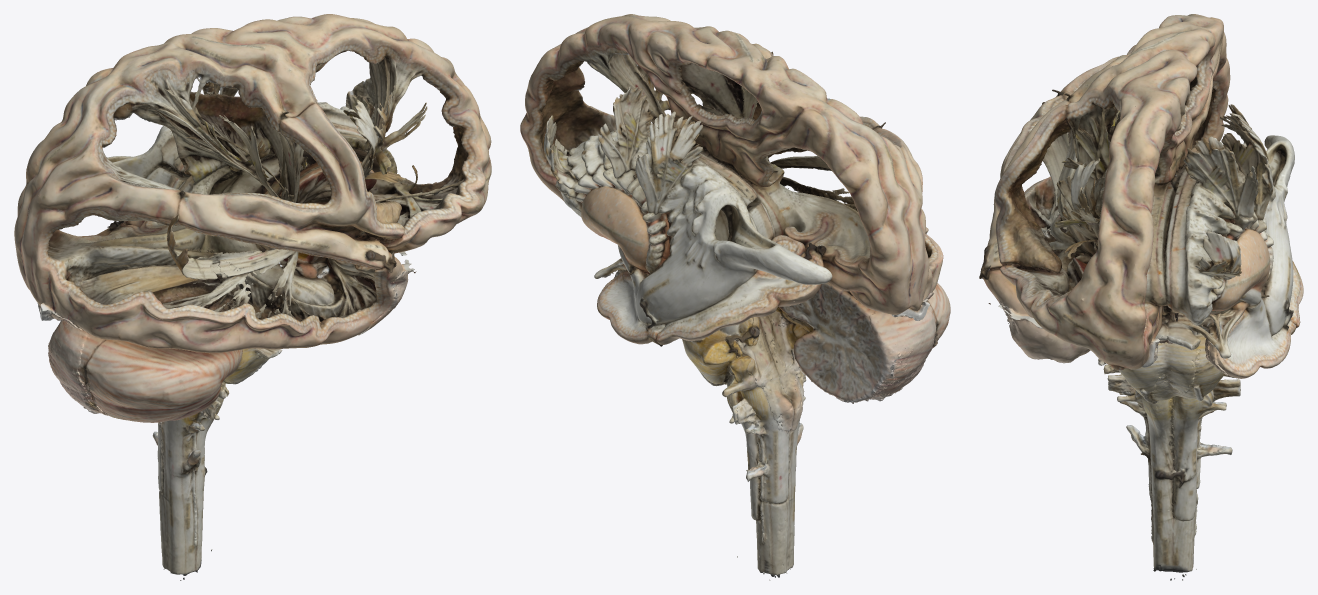
The model's file is science-museum-human-brain.glb.
The picture shows the model from 3 angles, left to right: view 1: azimuth 30°, elevation 25°; view 2: azimuth 150°, elevation 25°; view 3: azimuth 270°, elevation 25°; orthographic projection. The views are drawn at different scales.
Parts seen in each view (by area): view 1: Object_4, Object_5, Object_7, Object_2, Object_8, Object_6, Object_3, Object_9; view 2: Object_5, Object_2, Object_7, Object_4, Object_3, Object_6, Object_8, Object_9; view 3: Object_5, Object_7, Object_8, Object_6, Object_2, Object_3, Object_4, Object_9.
Part boxes in pixels (box(x1,y1,x2,y2)): Object_4: box(14, 57, 489, 345); Object_5: box(14, 59, 491, 264); Object_7: box(45, 14, 453, 569); Object_2: box(48, 322, 282, 580); Object_8: box(14, 72, 491, 299); Object_6: box(26, 57, 479, 224); Object_3: box(48, 228, 408, 398); Object_9: box(16, 175, 483, 322); Object_5: box(520, 51, 925, 286); Object_2: box(682, 283, 950, 577); Object_7: box(537, 14, 893, 580); Object_4: box(532, 44, 943, 338); Object_3: box(597, 213, 950, 374); Object_6: box(525, 48, 922, 246); Object_8: box(520, 64, 934, 302); Object_9: box(534, 138, 941, 329); Object_5: box(994, 21, 1294, 316); Object_7: box(988, 14, 1266, 579); Object_8: box(987, 45, 1294, 356); Object_6: box(995, 43, 1284, 303); Object_2: box(1098, 329, 1240, 580); Object_3: box(988, 178, 1303, 378); Object_4: box(988, 14, 1298, 369); Object_9: box(979, 144, 1297, 370).
Size of the model in its own units: 4.01 by 4.71 by 2.47.
1 material, 1 textured.
